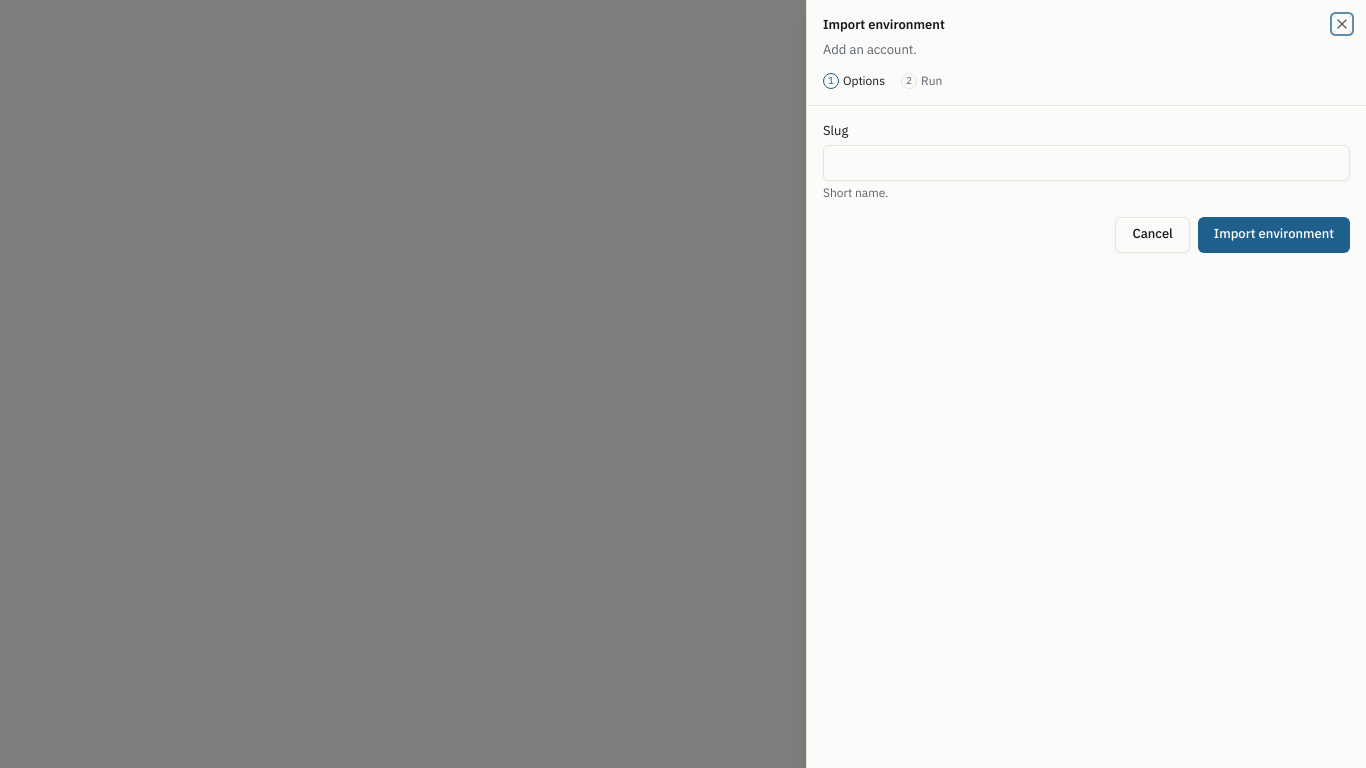
Scenario: TaskPanel flows › sends no environment for a task that acts on none
Type "staging" into the field labelled "Slug".
click(1086, 163); type("staging")  # box [823,145,1350,181]
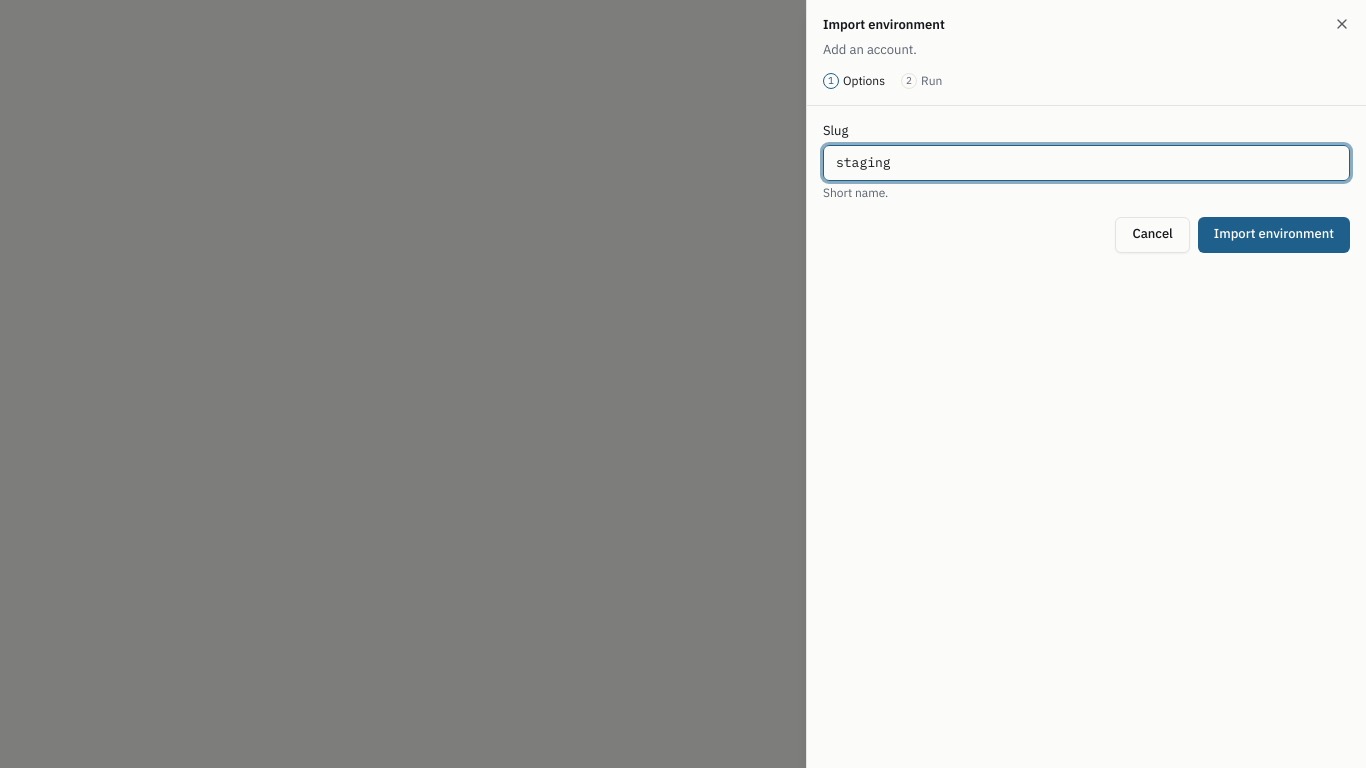
Click the button "Import environment".
click(1274, 235)  # box [1198,217,1350,253]
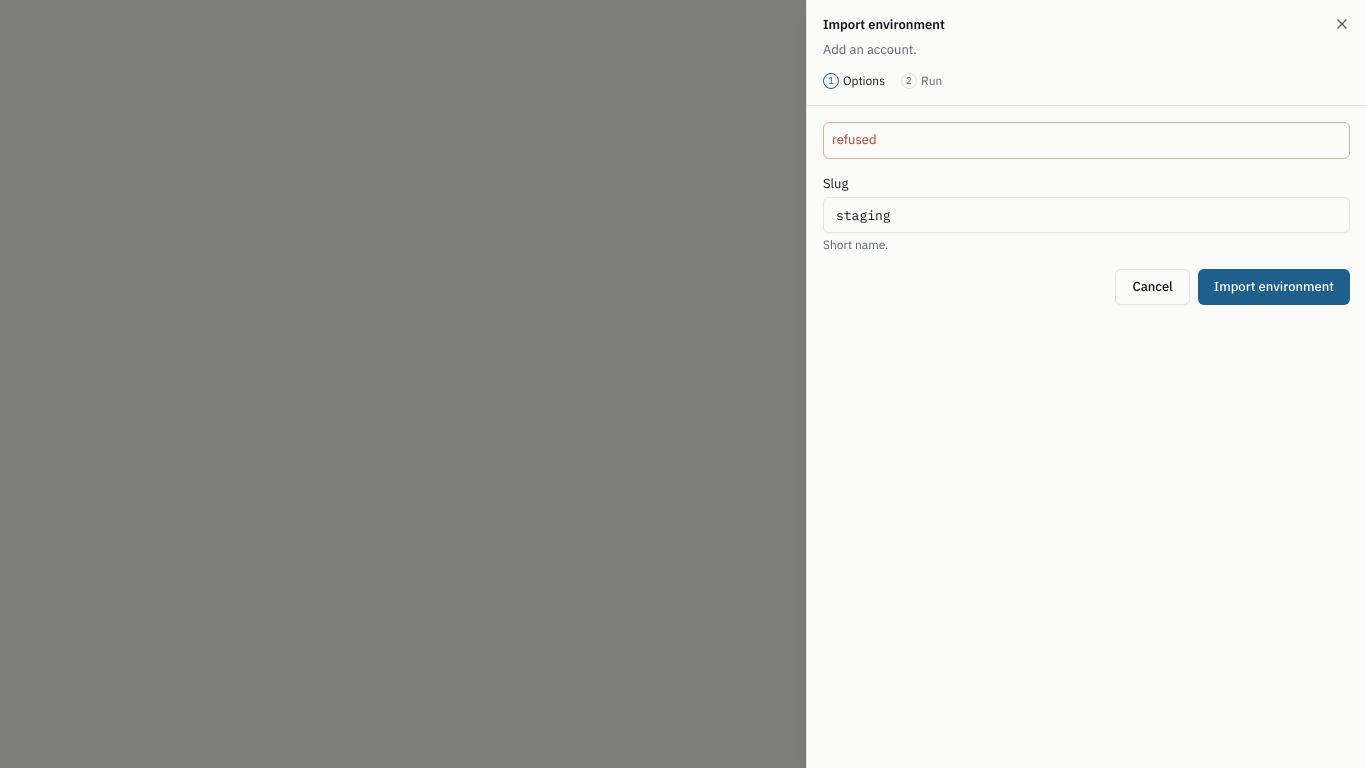
Expected: the list item "refused" is shown, [832,131,876,148]
